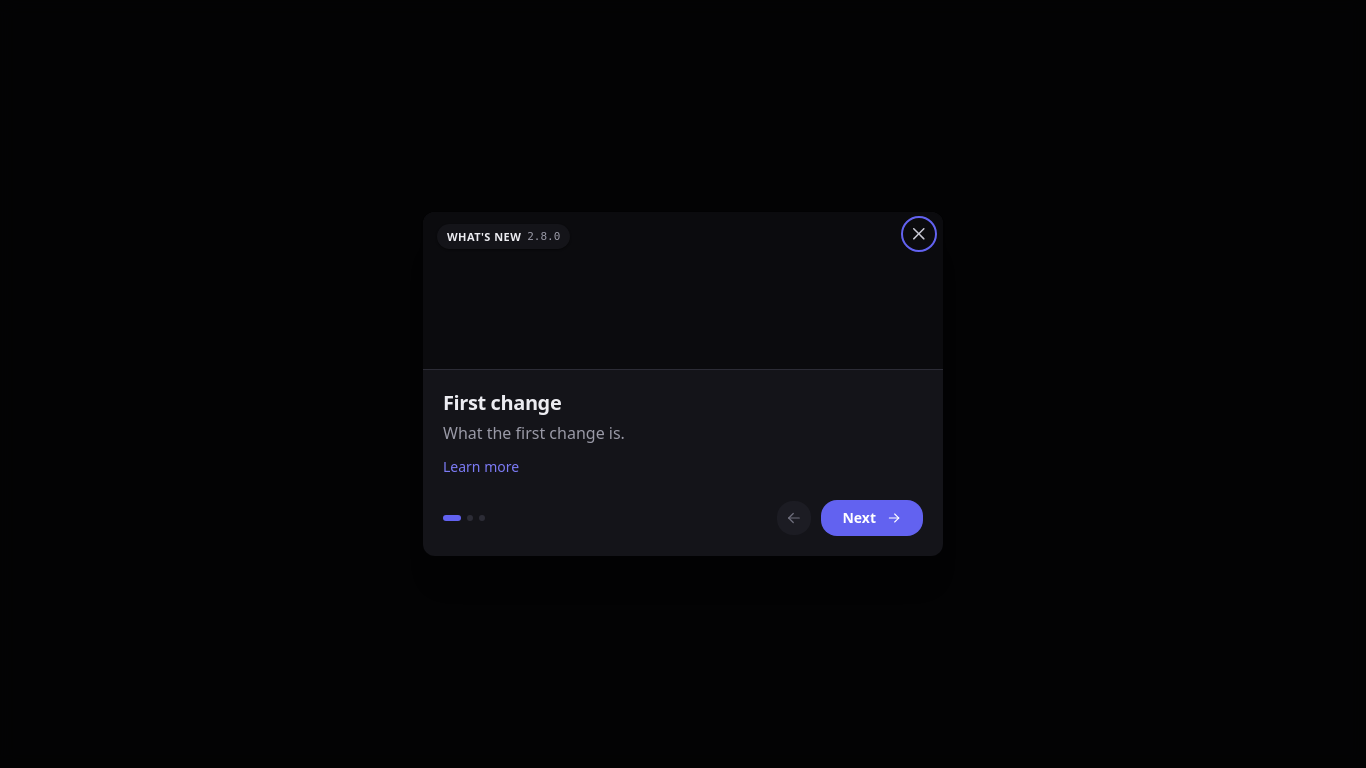
Test: ReleaseHighlightsModal › jumps to any panel from the dots
Click the button named "Panel 3" at (482, 518), box [479, 515, 485, 521]
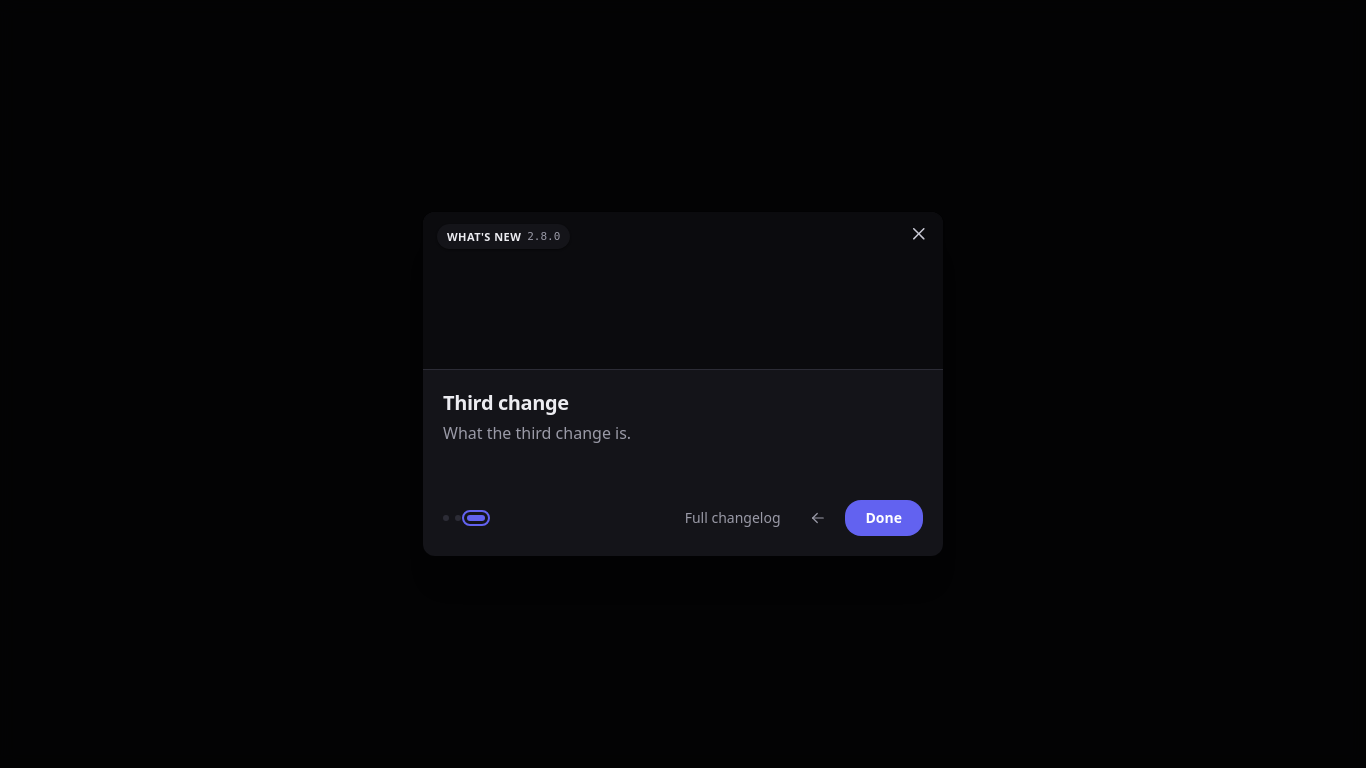
Now the heading "Third change" is shown, box [443, 389, 569, 416]
Now the link "Full changelog" is shown, box [685, 507, 780, 529]
Click the button named "Panel 1" at (446, 518), box [443, 515, 449, 521]
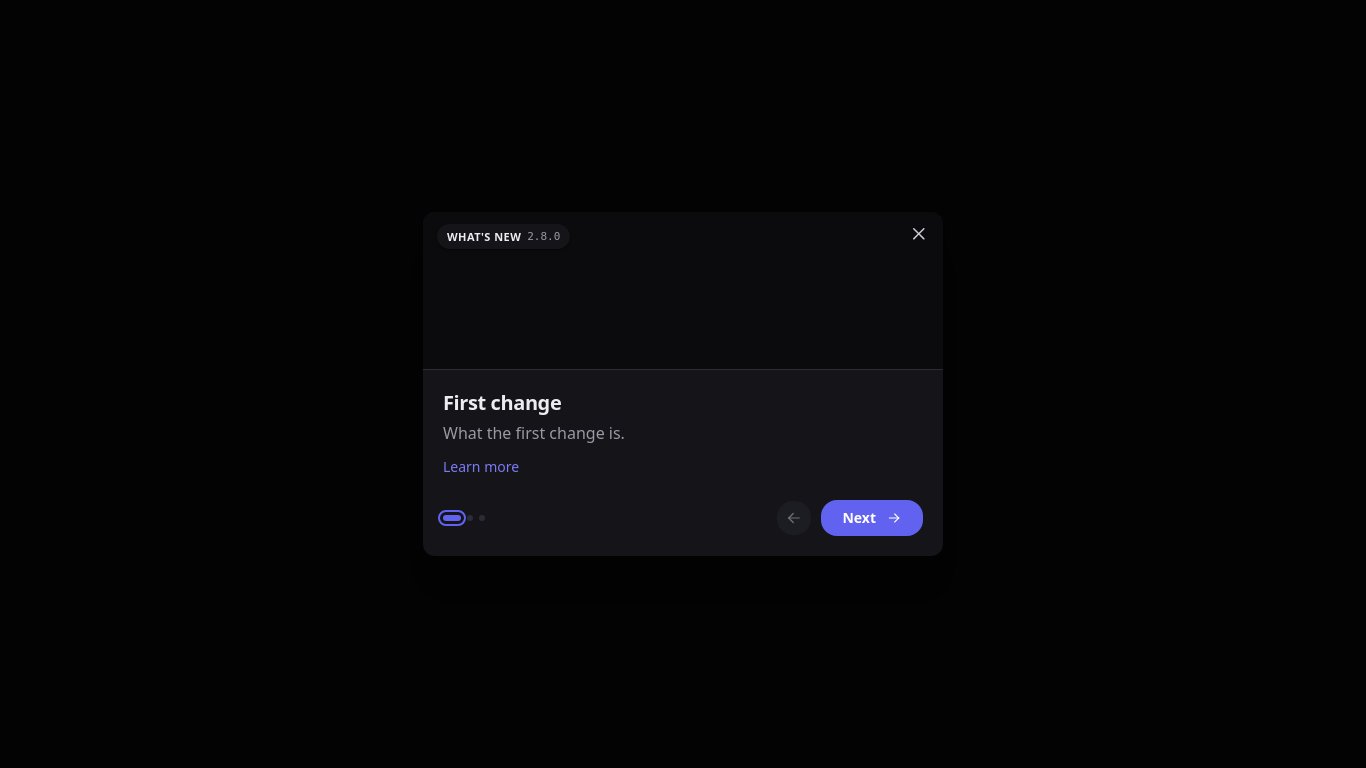
Now the heading "First change" is shown, box [443, 389, 561, 416]
